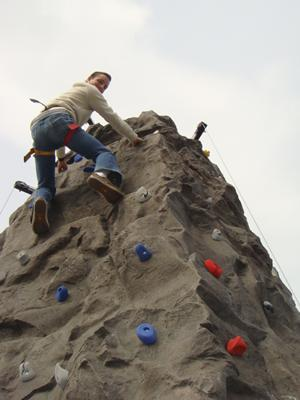person: (30, 71, 145, 238)
